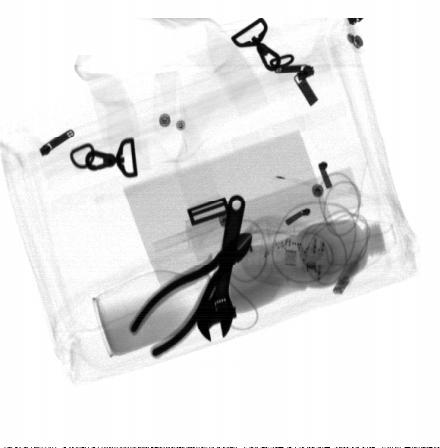Pliers: (129, 230, 253, 358)
Wrench: (196, 194, 246, 343)
